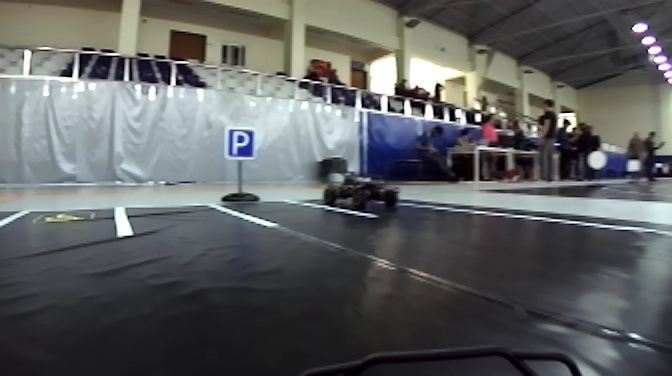park: (224, 124, 259, 161)
